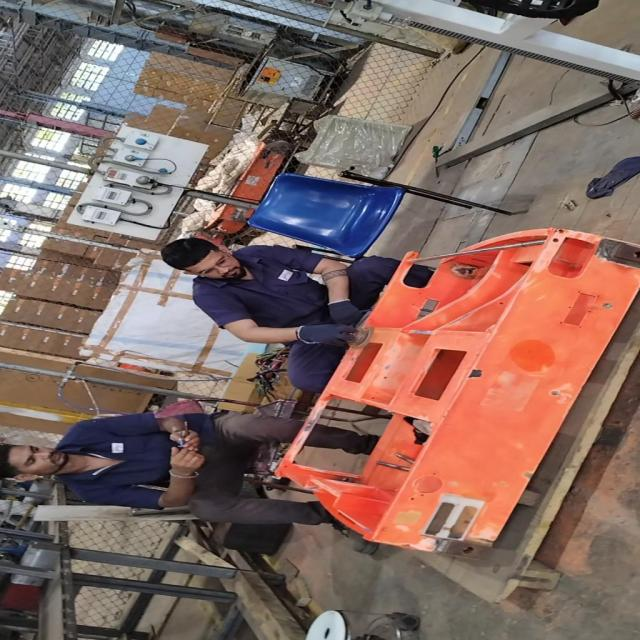Gloves-Detection: (299, 327, 359, 348), (326, 307, 359, 326)
